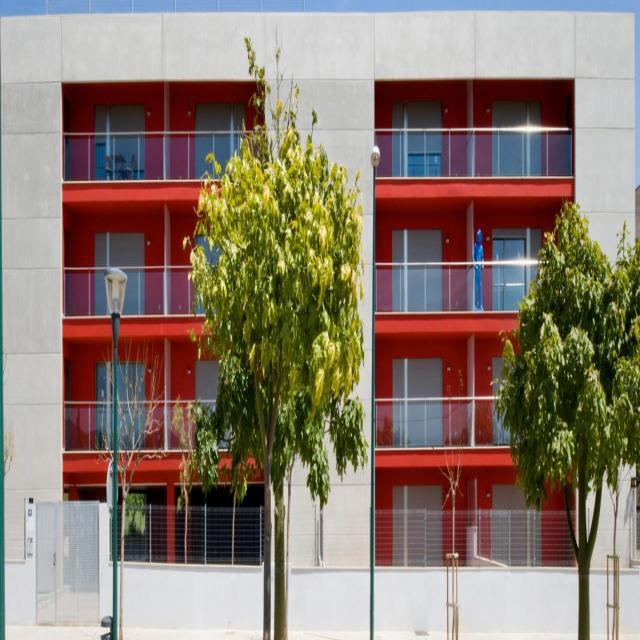Railing: (374, 131, 572, 178), (61, 132, 242, 180), (374, 402, 524, 448), (376, 265, 526, 310), (64, 404, 195, 448), (64, 269, 189, 313)
plant: (178, 124, 374, 640), (501, 190, 640, 623)
wall: (3, 13, 634, 621)
windows: (94, 355, 144, 441), (393, 354, 443, 438), (392, 477, 443, 559), (492, 474, 542, 557), (95, 223, 144, 305), (394, 227, 444, 305), (393, 94, 442, 166), (96, 96, 143, 170), (492, 96, 541, 164), (196, 94, 243, 164), (493, 236, 524, 300), (494, 346, 510, 439), (195, 361, 212, 399)
